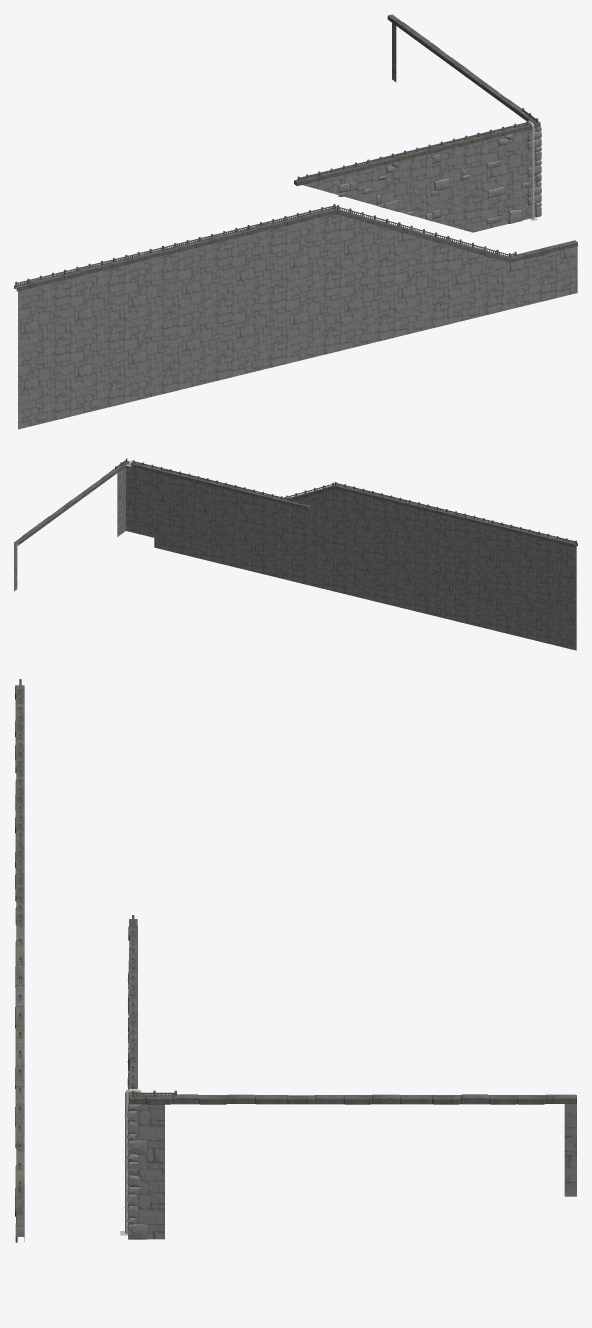
File: SM_ENV_KNVLLG_Wall_09.mo.fbx
3 renders of one model, top to bottom at view 1: azimuth 30°, elevation 25°; view 2: azimuth 150°, elevation 25°; view 3: azimuth 270°, elevation 25°, orthographic. The views are drawn at different scales.
Visible parts, largest first — view 1: SM_ENV_KNVLLG_Wall_09.mo; view 2: SM_ENV_KNVLLG_Wall_09.mo; view 3: SM_ENV_KNVLLG_Wall_09.mo.
Boxes of the visible parts, x1,y1,x2,y2 form: SM_ENV_KNVLLG_Wall_09.mo: (14,14,577,429); SM_ENV_KNVLLG_Wall_09.mo: (14,458,577,650); SM_ENV_KNVLLG_Wall_09.mo: (15,679,576,1242).
Bounding box in the file's own units: 83.37 × 20.78 × 47.8.
